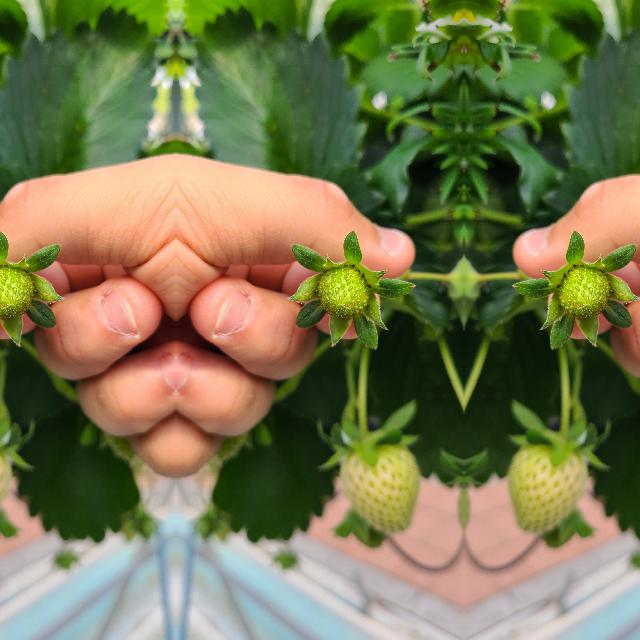Health_25: (316, 266, 368, 320), (558, 266, 610, 320), (0, 266, 33, 319)
